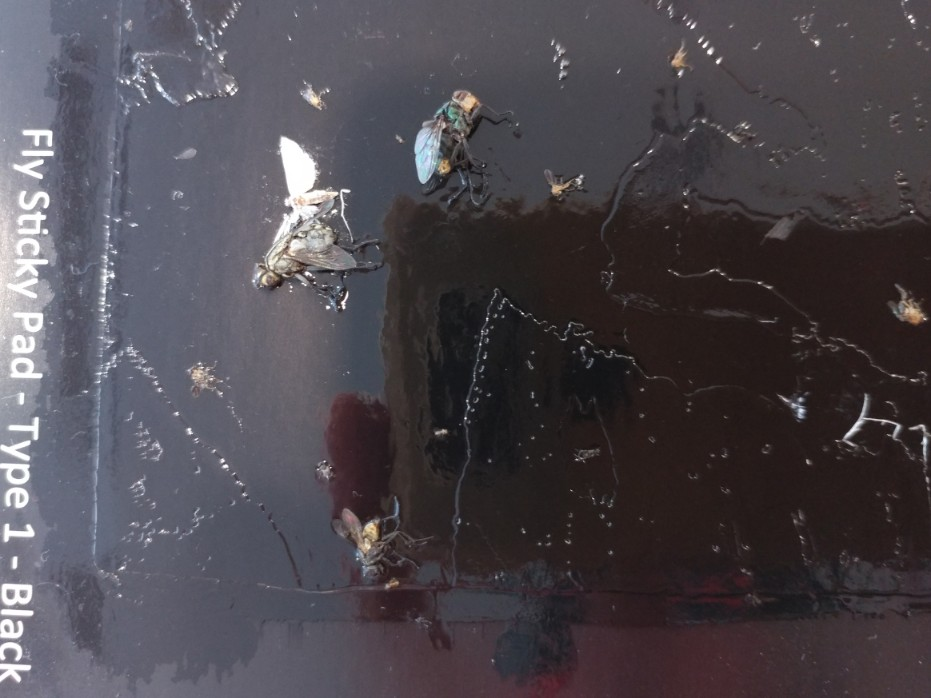fly: (227, 135, 382, 317), (385, 81, 531, 222), (328, 502, 429, 585)
